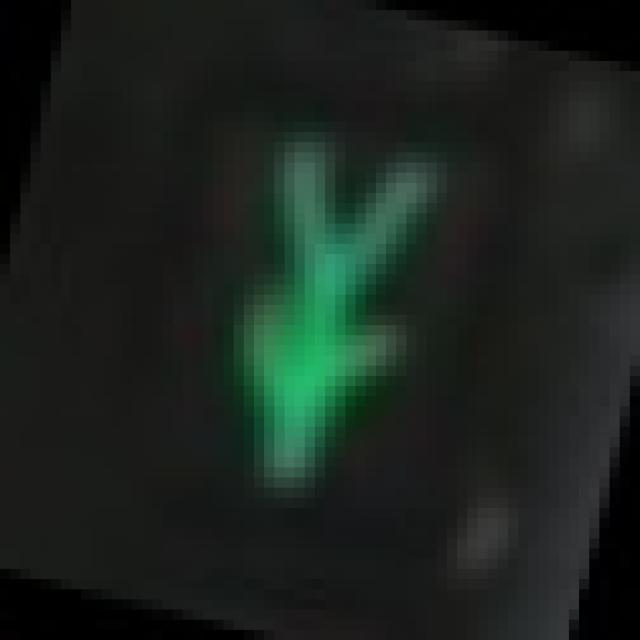green_light: (112, 61, 498, 549)
